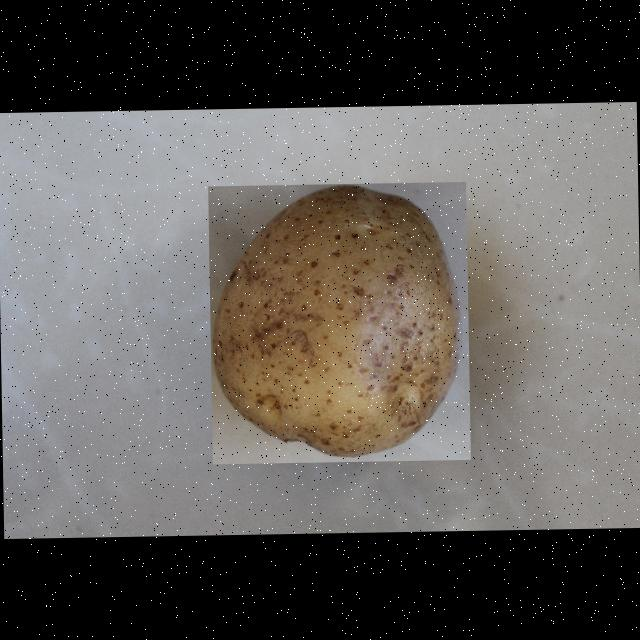Diseased-fungal potato: (208, 182, 470, 464)
